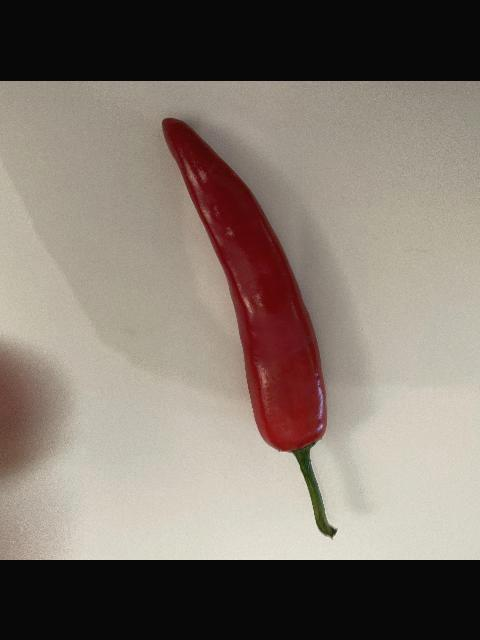chilli: (160, 116, 340, 538)
